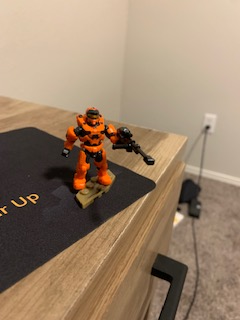spartan: (61, 103, 121, 192)
